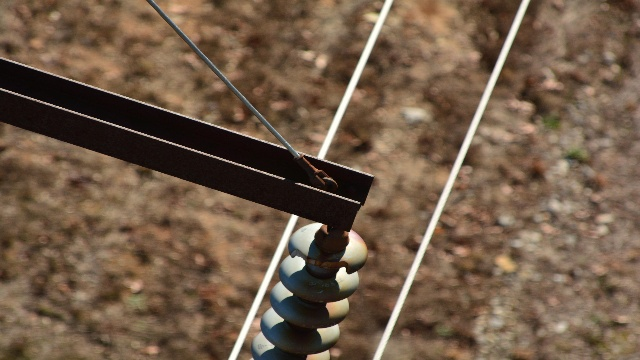broken_local: (289, 245, 350, 274)
insulator_unspecified: (247, 223, 368, 359)
